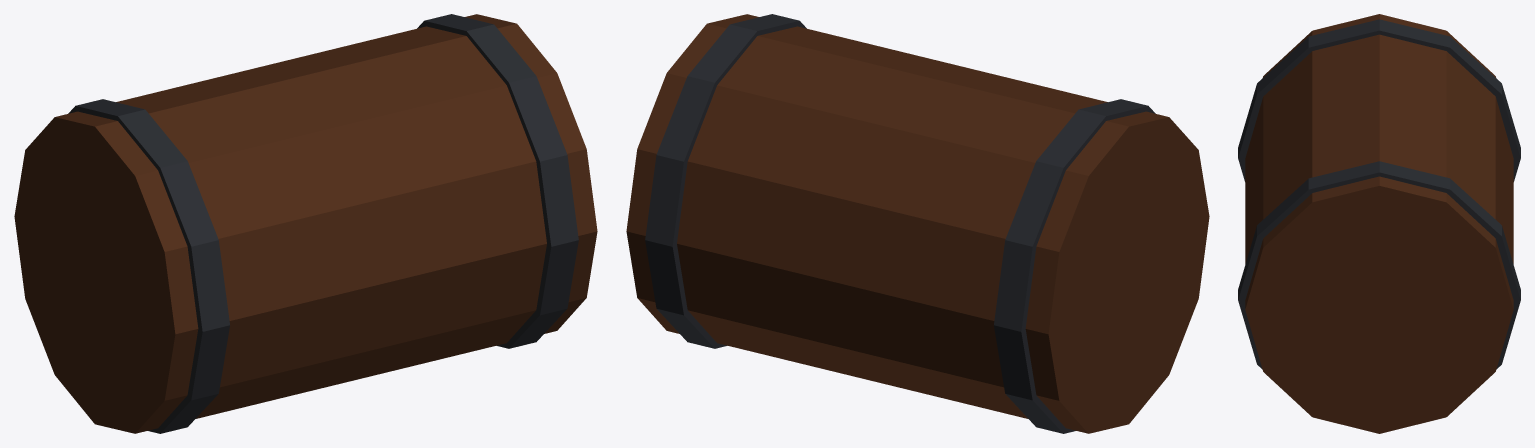
File: chest_lid.obj
The picture shows the model from 3 angles, left to right: view 1: azimuth 30°, elevation 25°; view 2: azimuth 150°, elevation 25°; view 3: azimuth 270°, elevation 25°; orthographic projection. The views are drawn at different scales.
Parts seen in each view (by area): view 1: Cylinder, Cylinder.002, Cylinder.001; view 2: Cylinder, Cylinder.002, Cylinder.001; view 3: Cylinder, Cylinder.002, Cylinder.001.
Part boxes in pixels (x1,y1,x2,y2): Cylinder: (14, 14, 597, 433); Cylinder.002: (417, 14, 578, 348); Cylinder.001: (68, 99, 229, 433); Cylinder: (626, 14, 1209, 433); Cylinder.002: (645, 14, 806, 348); Cylinder.001: (994, 99, 1155, 433); Cylinder: (1245, 14, 1513, 433); Cylinder.002: (1238, 161, 1520, 369); Cylinder.001: (1238, 19, 1520, 181).
Bounding box in the file's own units: 0.92 × 0.64 × 0.64.
